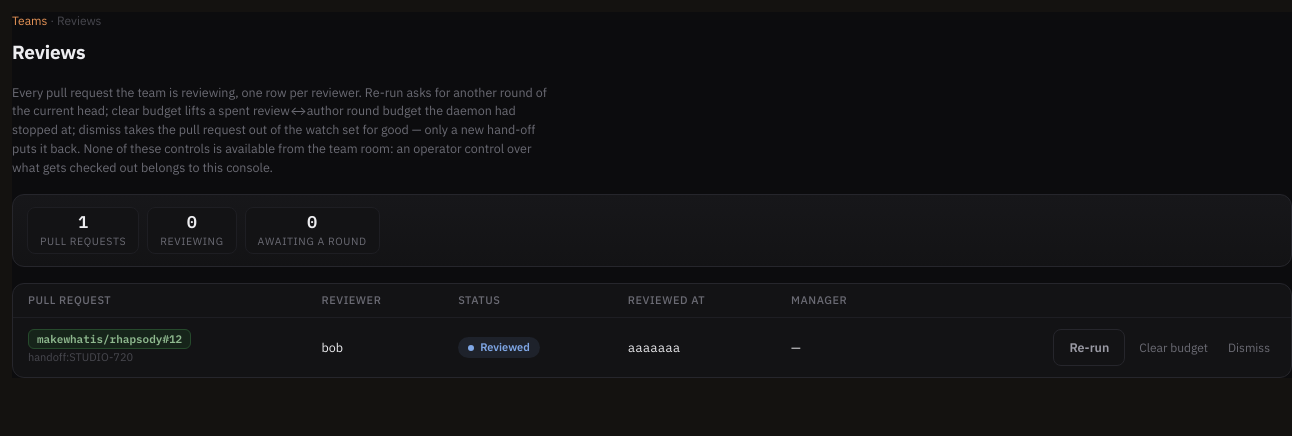
Scenario: the Reviews surface › abandons a dismissal on cancel, leaving the row alone
Click the button with aria-label "Dismiss makewhatis/rhapsody#12 from the watch set": (1249, 348) [1222, 331, 1276, 365]
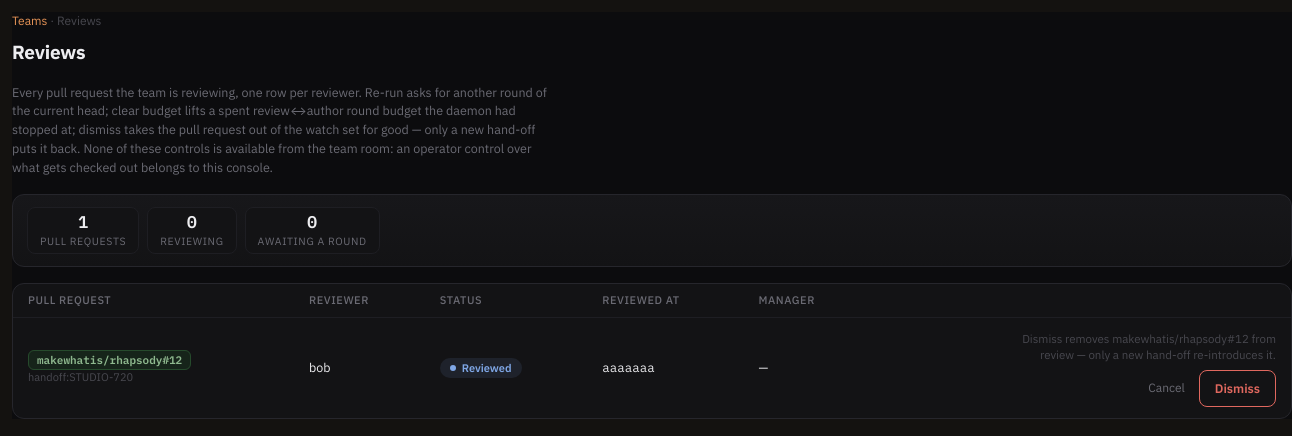
Click the button with aria-label "Cancel dismissing makewhatis/rhapsody#12": (1167, 388) [1142, 372, 1191, 406]
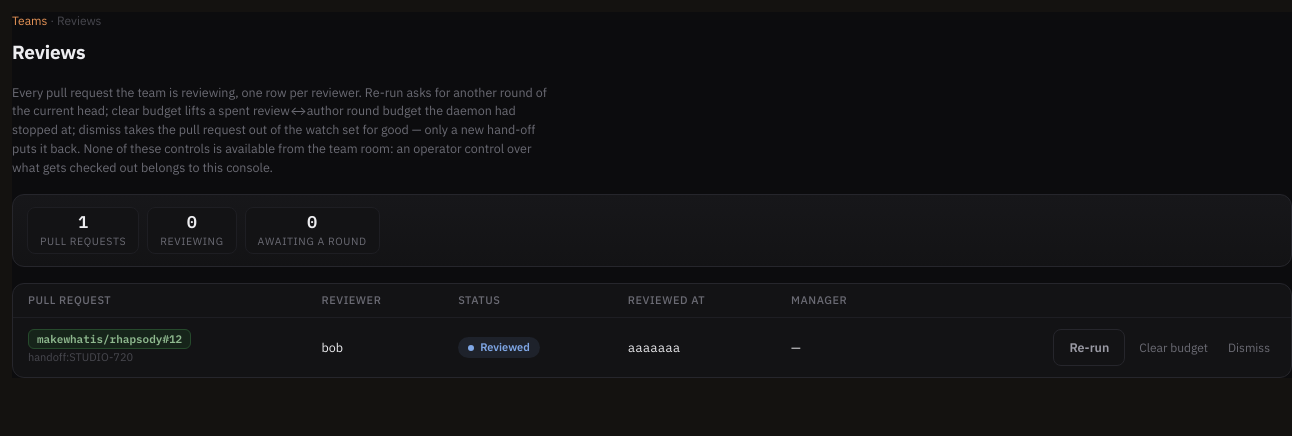
Now the button with aria-label "Re-run the review of makewhatis/rhapsody#12" is shown, box [1053, 329, 1125, 366]
